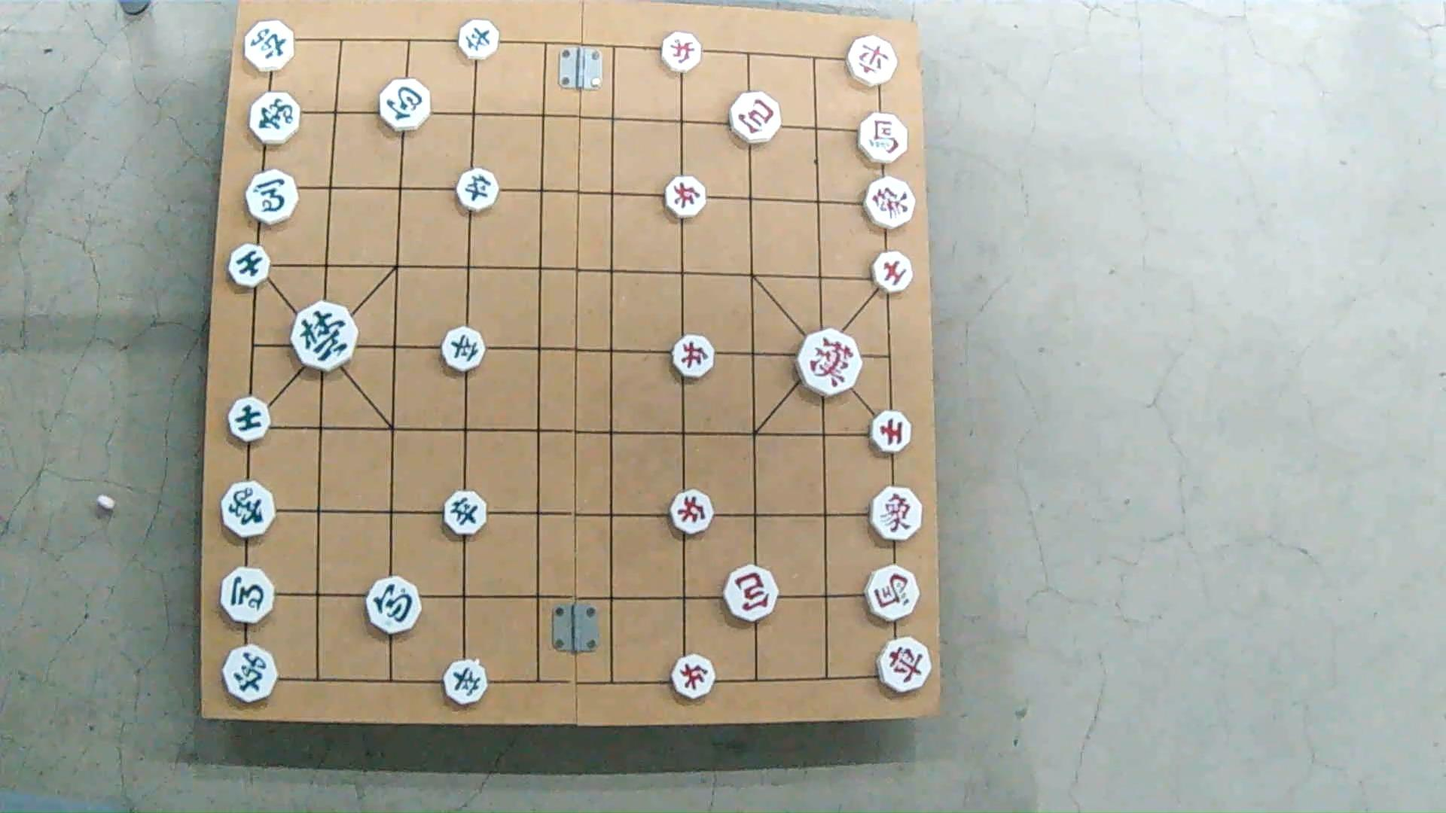cha_green: (221, 644, 278, 700), (246, 20, 296, 72)
cha_red: (880, 638, 932, 690), (846, 38, 898, 87)
jol_green: (441, 324, 484, 372), (444, 662, 490, 705), (458, 170, 502, 212), (457, 22, 499, 60), (447, 493, 490, 530)
jol_red: (670, 490, 716, 533), (672, 656, 717, 699), (671, 337, 717, 378), (665, 177, 708, 217), (657, 33, 700, 72)
ma_green: (218, 565, 276, 623), (246, 171, 299, 225)
ma_red: (862, 565, 919, 622), (856, 114, 907, 163)
po_green: (367, 577, 422, 633), (380, 79, 433, 129)
po_red: (724, 567, 778, 619), (728, 95, 779, 143)
sa_green: (226, 246, 270, 288), (227, 398, 269, 441)
sa_red: (873, 410, 912, 449), (874, 254, 914, 291)
sang_green: (218, 482, 276, 539), (246, 90, 299, 142)
sang_red: (867, 487, 921, 539), (865, 173, 914, 227)
wang_green: (292, 306, 359, 370)
wang_red: (792, 333, 859, 395)
